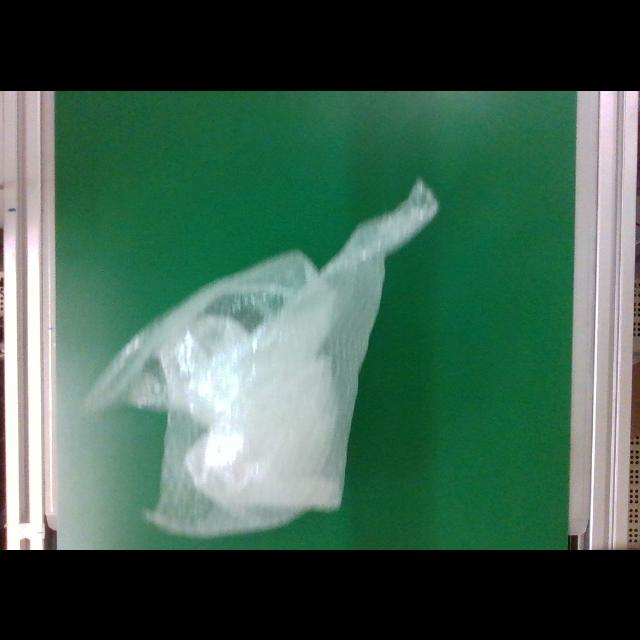scrap_plastic: (91, 173, 441, 539)
